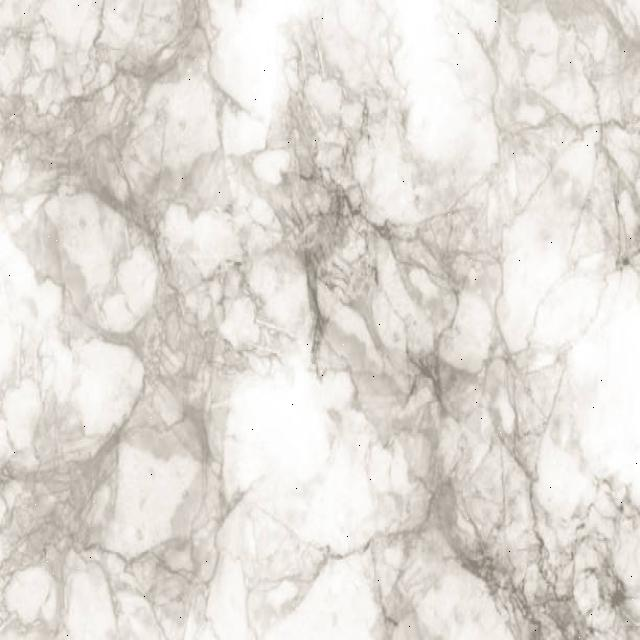Metamorphic: (3, 3, 635, 640)
